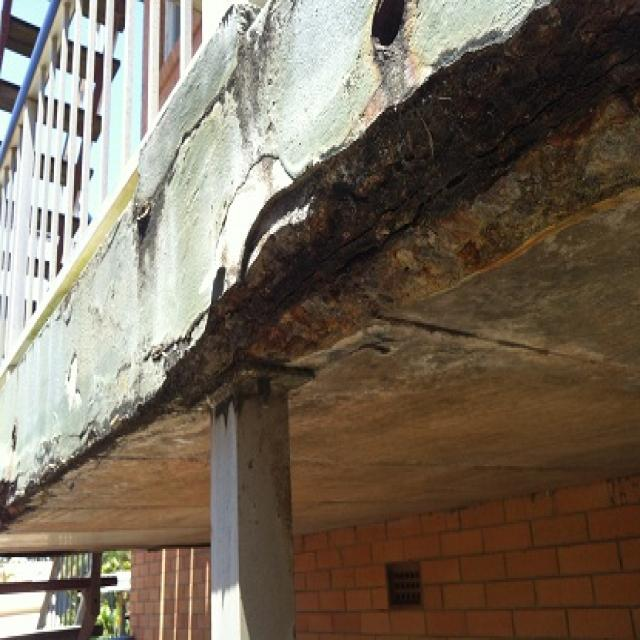Spalling: (217, 21, 640, 365)
